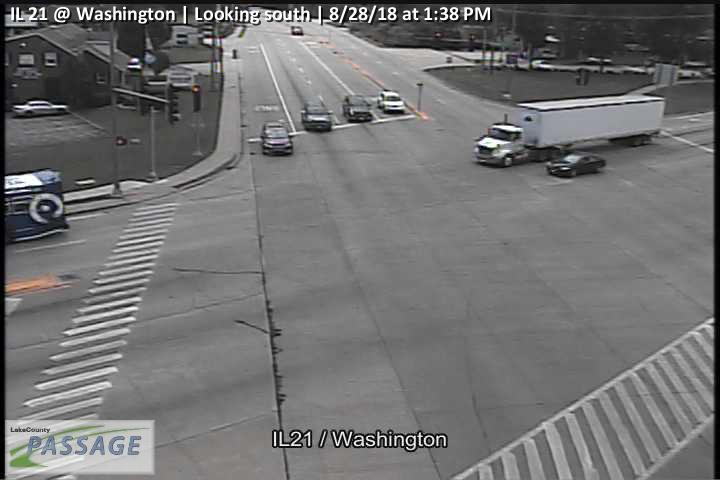Bus: (260, 122, 295, 155), (300, 101, 334, 130), (341, 94, 372, 122), (377, 90, 405, 112)
Sedan: (545, 151, 607, 177)
Truck: (473, 93, 666, 168)
